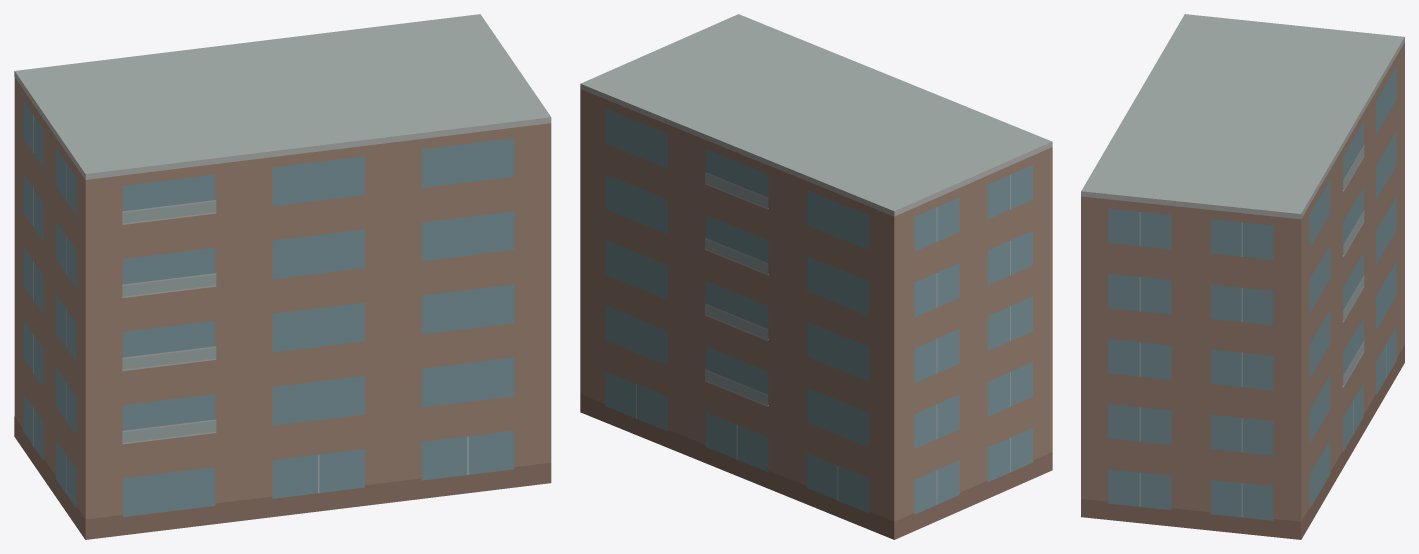
Rendered from survey-upis-32969790.glb.
3 views of the same model, side by side, from view 1: azimuth 30°, elevation 25°; view 2: azimuth 150°, elevation 25°; view 3: azimuth 270°, elevation 25° (orthographic). The views are drawn at different scales.
Parts seen in each view (by area): view 1: survey-upis-32969790.tmp; view 2: survey-upis-32969790.tmp; view 3: survey-upis-32969790.tmp.
Boxes of the visible parts, x1,y1,x2,y2 form: survey-upis-32969790.tmp: [14, 14, 551, 539]; survey-upis-32969790.tmp: [580, 14, 1052, 539]; survey-upis-32969790.tmp: [1081, 14, 1404, 539].
Size of the model in its own units: 20.09 by 15.25 by 13.74.
